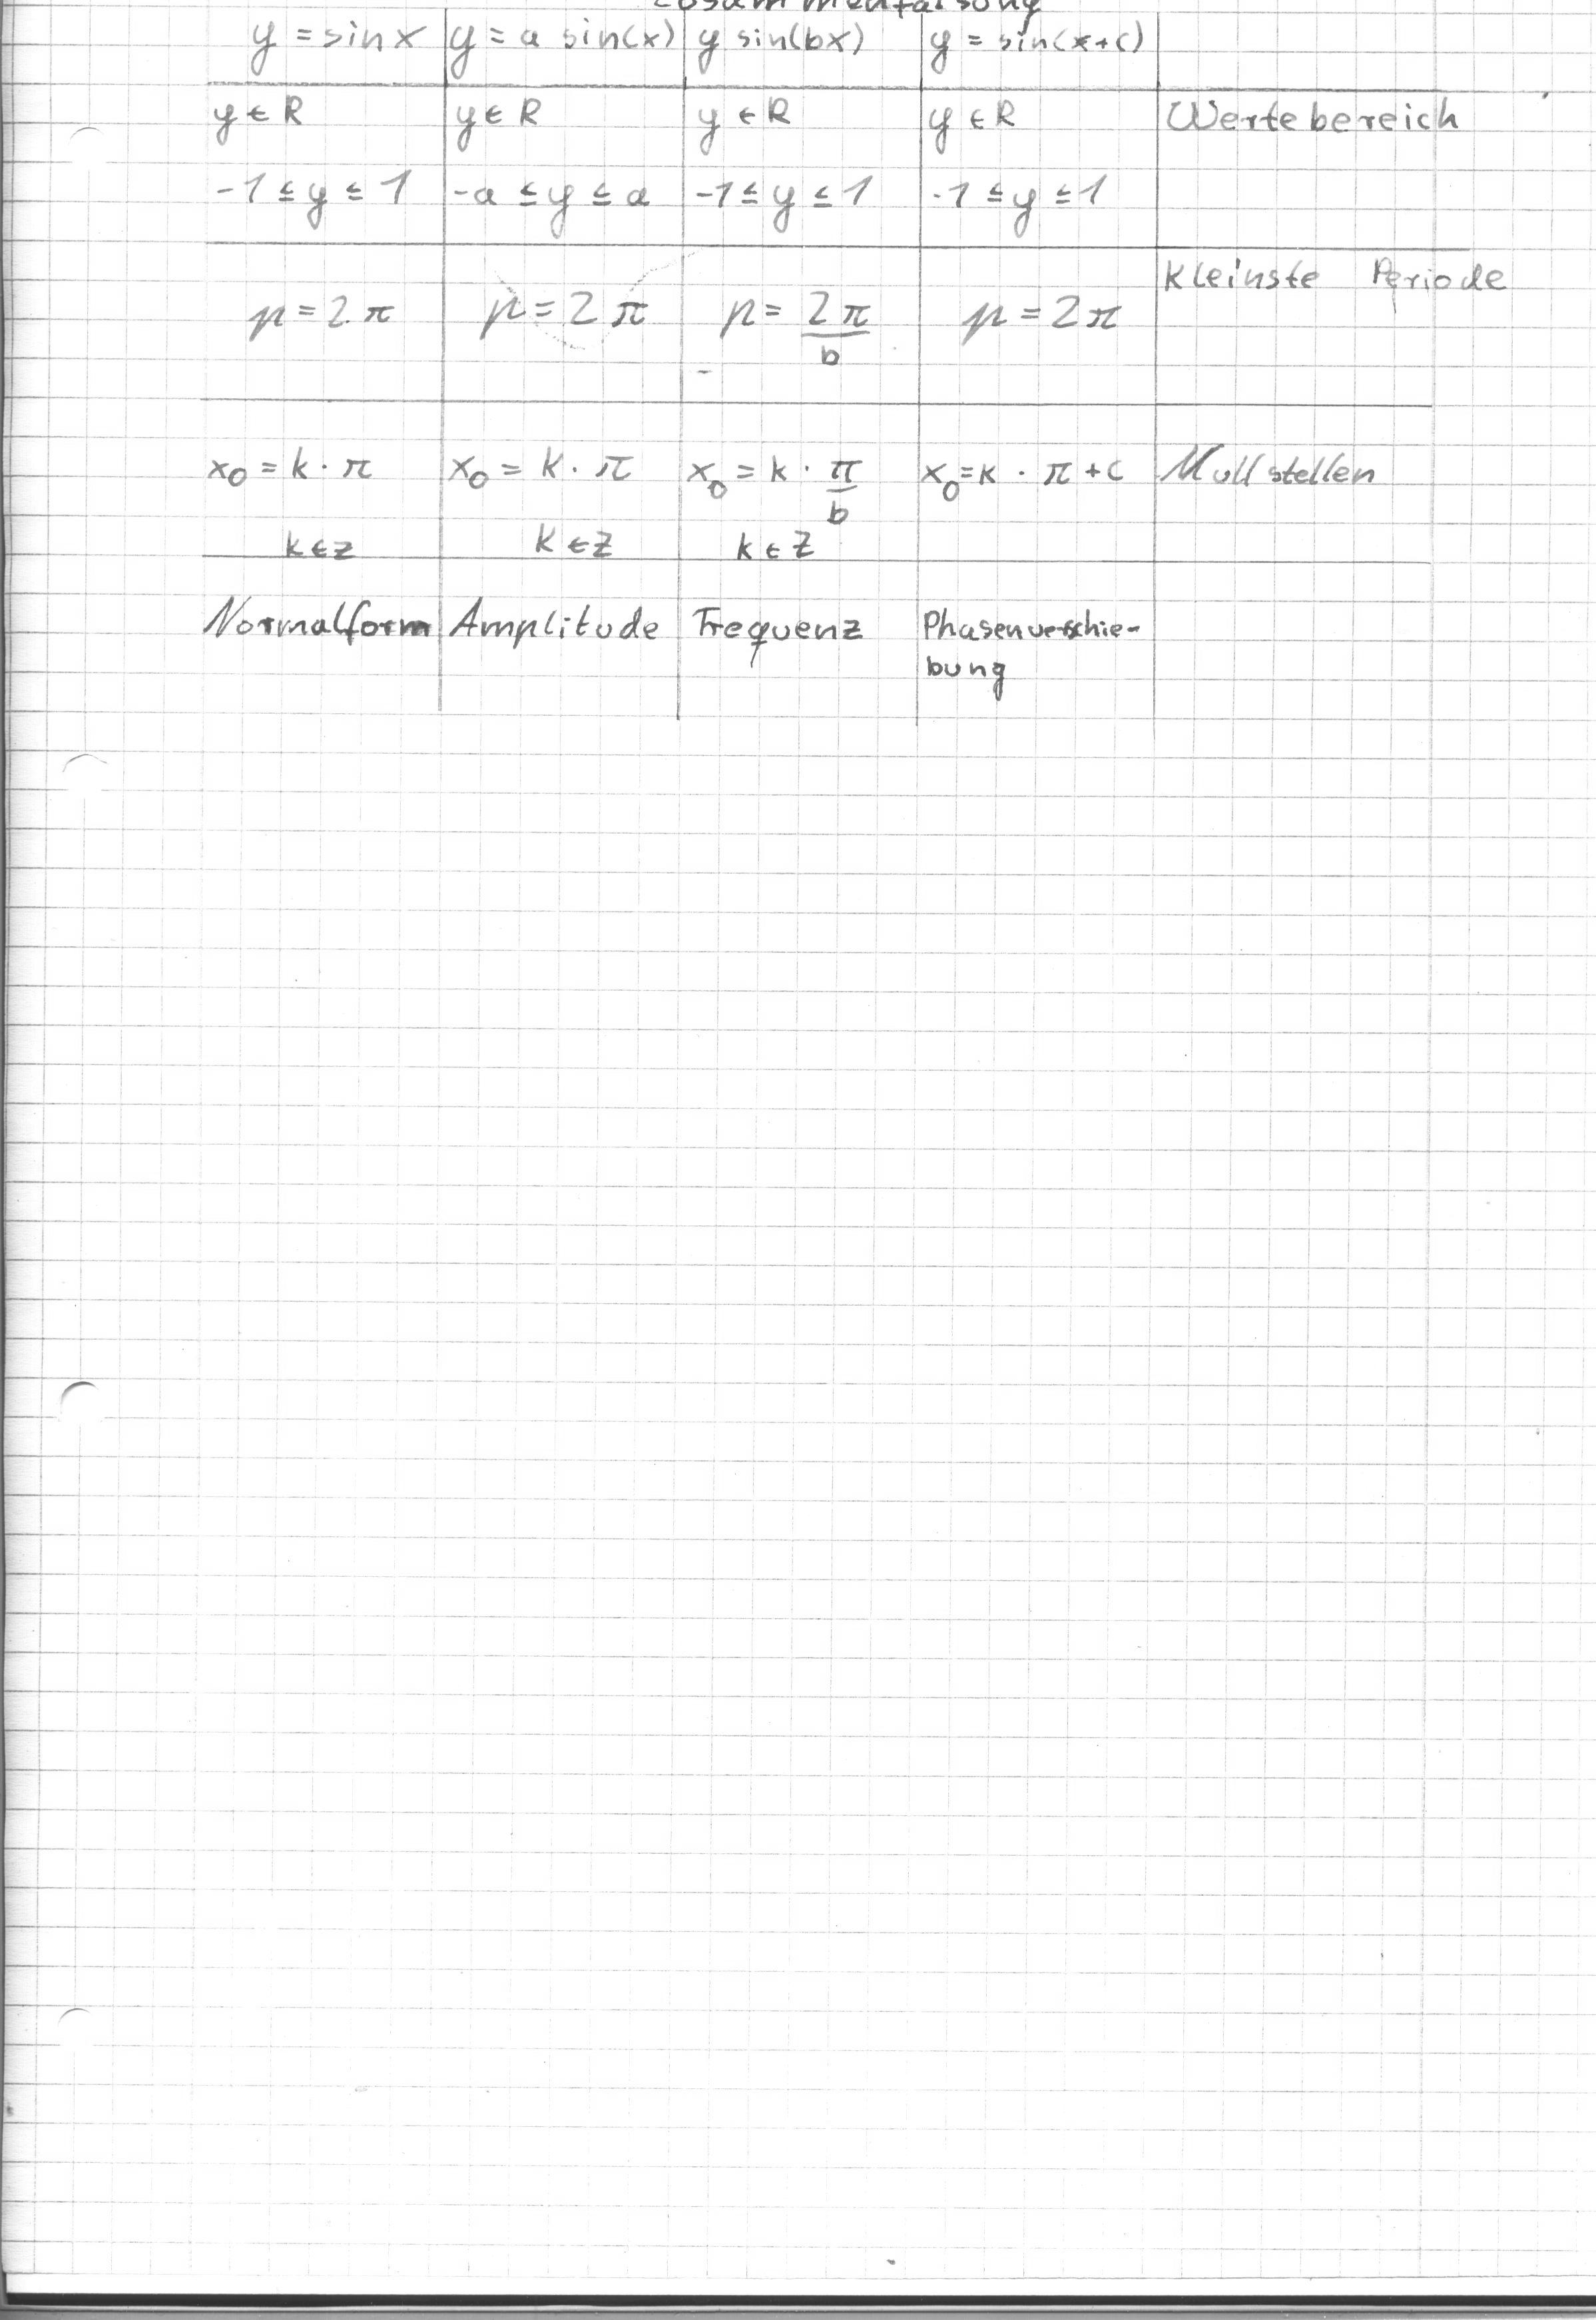word: (684, 3, 1155, 380), (171, 417, 863, 584), (892, 424, 1417, 539), (1135, 46, 1539, 186), (1135, 208, 1569, 335)
